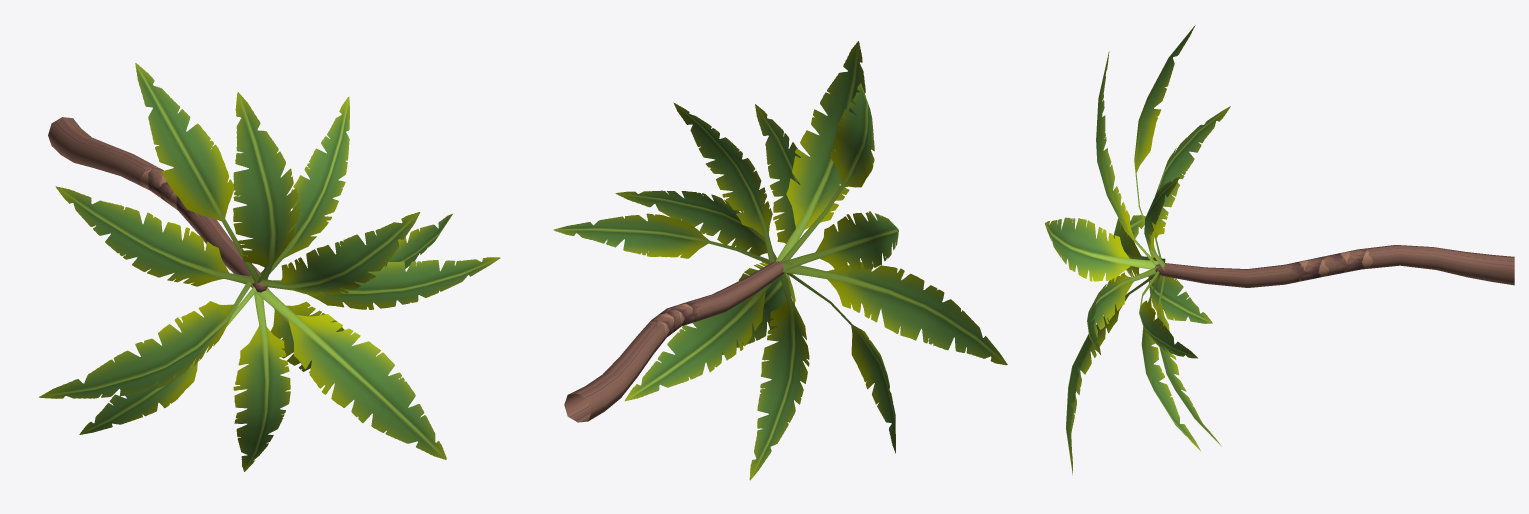
The model's file is PalmTree_1.glb.
3 renders of one model, left to right at view 1: azimuth 30°, elevation 25°; view 2: azimuth 150°, elevation 25°; view 3: azimuth 270°, elevation 25°, orthographic. The views are drawn at different scales.
Visible parts, largest first — view 1: PalmTree_1; view 2: PalmTree_1; view 3: PalmTree_1.
Part boxes in pixels (x1=…): PalmTree_1: x1=39, y1=63, x2=500, y2=471; PalmTree_1: x1=553, y1=41, x2=1007, y2=480; PalmTree_1: x1=1045, y1=25, x2=1514, y2=474.
Bounding box in the file's own units: 5.09 × 4.95 × 5.1.
2 materials, 2 textured.
